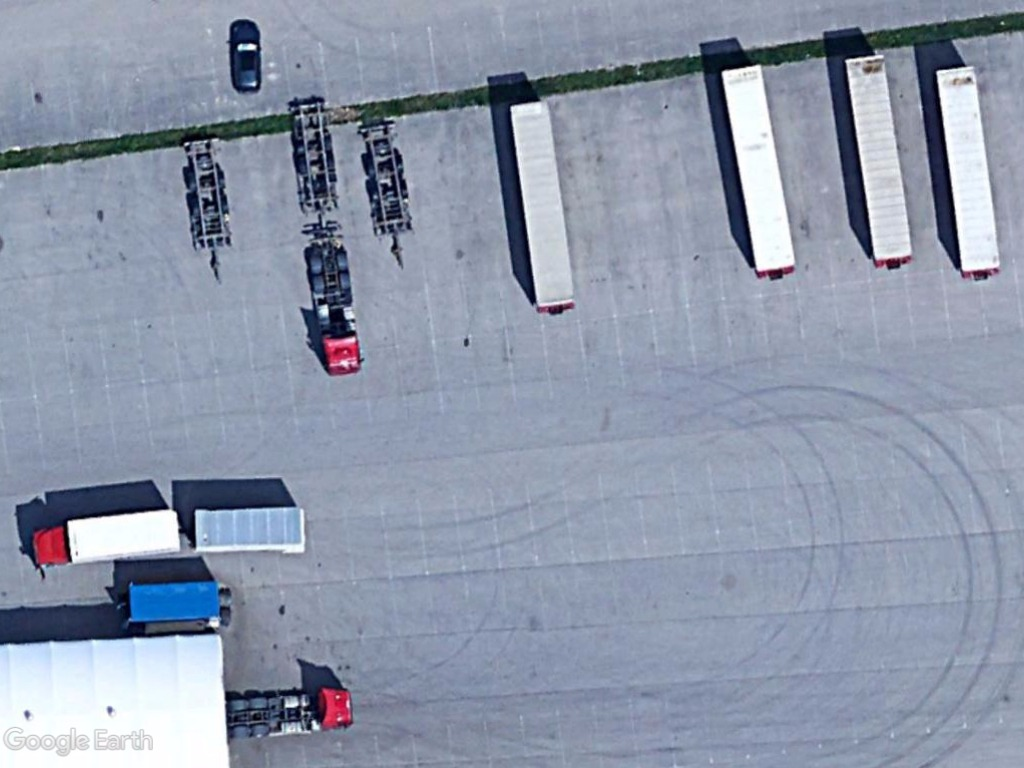car: (220, 15, 269, 97)
truck: (24, 498, 186, 574)
